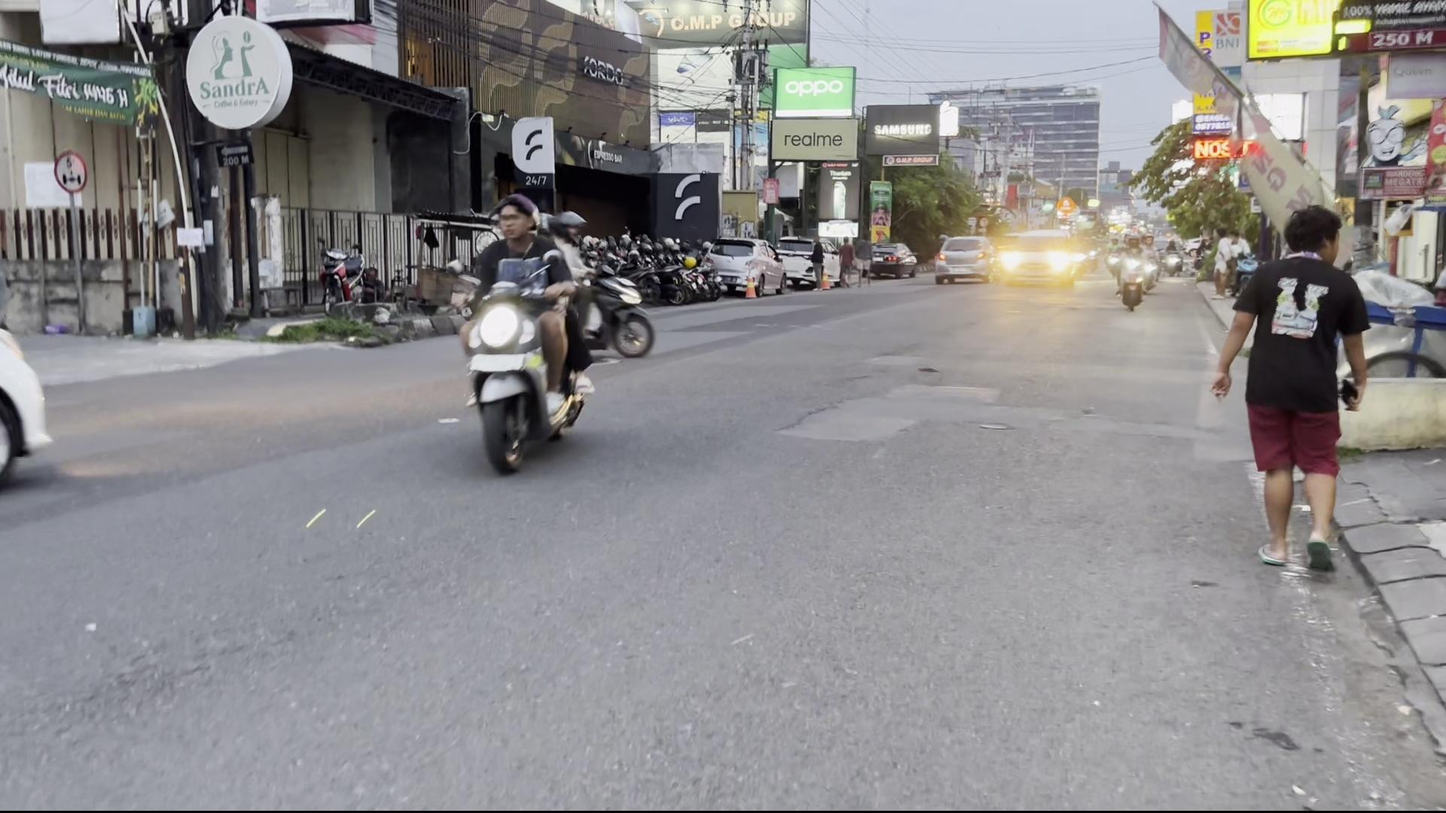nohelm: (492, 192, 538, 244)
riding: (442, 183, 606, 483)
